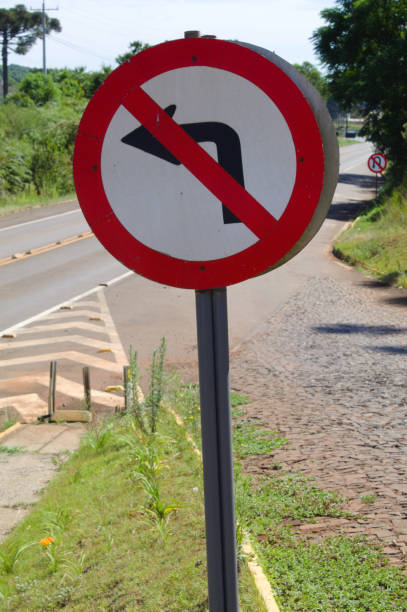sola_girilmez: (70, 32, 321, 279)
